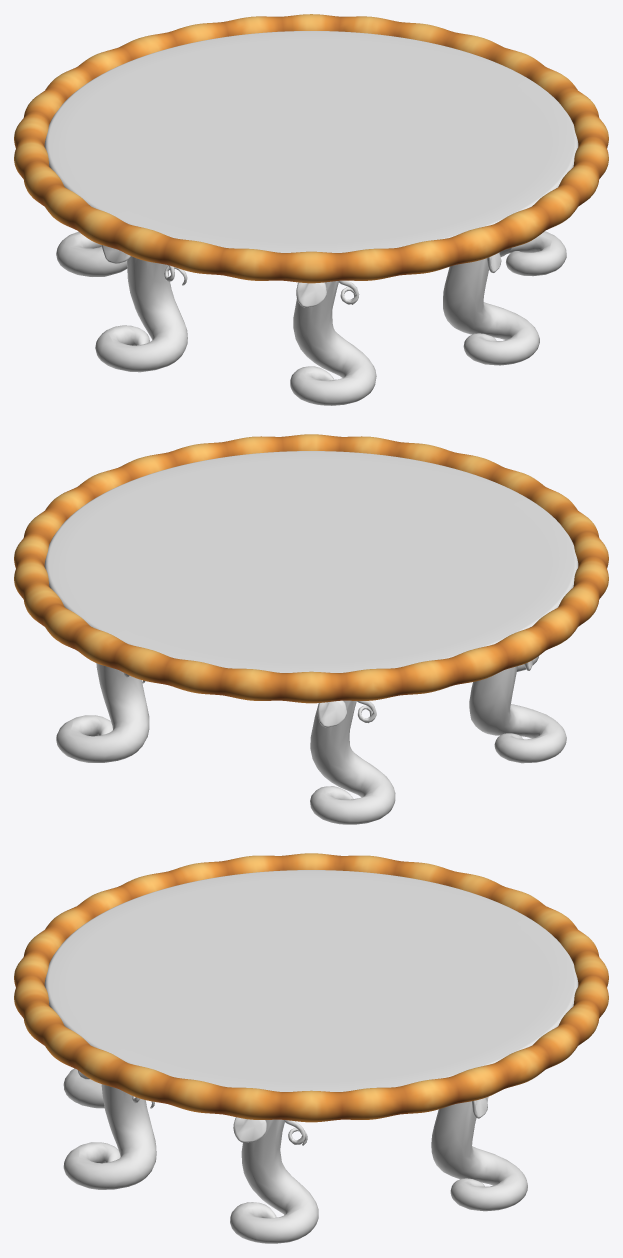
The model's file is Desk_Table.fbx.
The picture shows the model from 3 angles, top to bottom: view 1: azimuth 30°, elevation 25°; view 2: azimuth 150°, elevation 25°; view 3: azimuth 270°, elevation 25°; orthographic projection.
Visible parts, largest first — view 1: Top, Rim, Leg_5, Leg_3, Leg_4, Leg_0, Leg_2; view 2: Top, Rim, Leg_2, Leg_1, Leg_3; view 3: Top, Rim, Leg_0, Leg_1, Leg_4, Leg_5.
Part boxes in pixels (bbox=[...]): Top: bbox=[44, 31, 578, 252]; Rim: bbox=[14, 14, 608, 283]; Leg_5: bbox=[290, 280, 376, 405]; Leg_3: bbox=[95, 245, 187, 372]; Leg_4: bbox=[443, 252, 539, 365]; Leg_0: bbox=[499, 231, 566, 276]; Leg_2: bbox=[56, 231, 127, 276]; Top: bbox=[44, 451, 578, 672]; Rim: bbox=[14, 434, 608, 703]; Leg_2: bbox=[310, 700, 395, 824]; Leg_1: bbox=[56, 650, 149, 762]; Leg_3: bbox=[469, 660, 566, 763]; Top: bbox=[44, 870, 578, 1091]; Rim: bbox=[14, 853, 608, 1122]; Leg_0: bbox=[230, 1117, 318, 1243]; Leg_1: bbox=[431, 1097, 527, 1211]; Leg_4: bbox=[63, 1070, 156, 1189]; Leg_5: bbox=[63, 1068, 104, 1108].
Bounding box in the file's own units: 2.53 × 0.7551 × 2.52.
